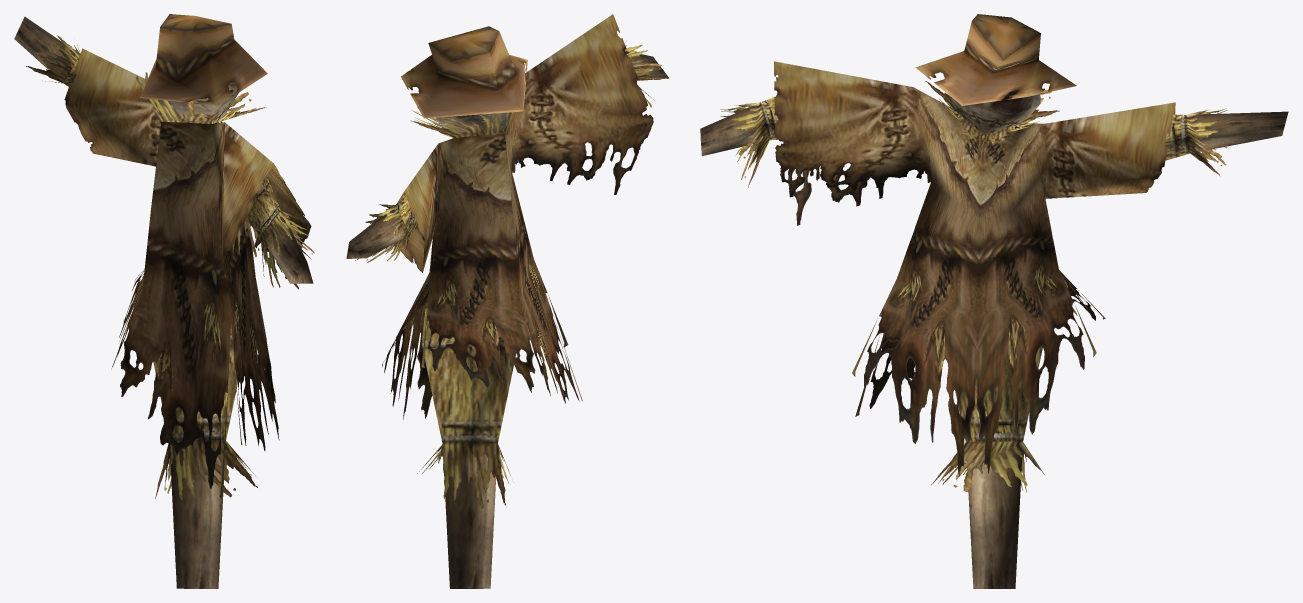
The model's file is duskscarecrow.obj.
The picture shows the model from 3 angles, left to right: view 1: azimuth 30°, elevation 25°; view 2: azimuth 150°, elevation 25°; view 3: azimuth 270°, elevation 25°; orthographic projection. The views are drawn at different scales.
Visible parts, largest first — view 1: DUSKSCARECROW0; view 2: DUSKSCARECROW0; view 3: DUSKSCARECROW0.
Part boxes in pixels (bbox=[...]): DUSKSCARECROW0: bbox=[14, 14, 314, 588]; DUSKSCARECROW0: bbox=[346, 14, 668, 588]; DUSKSCARECROW0: bbox=[700, 14, 1288, 588].
Size of the model in its own units: 1.36 by 4.42 by 4.21.
1 material, 1 textured.
